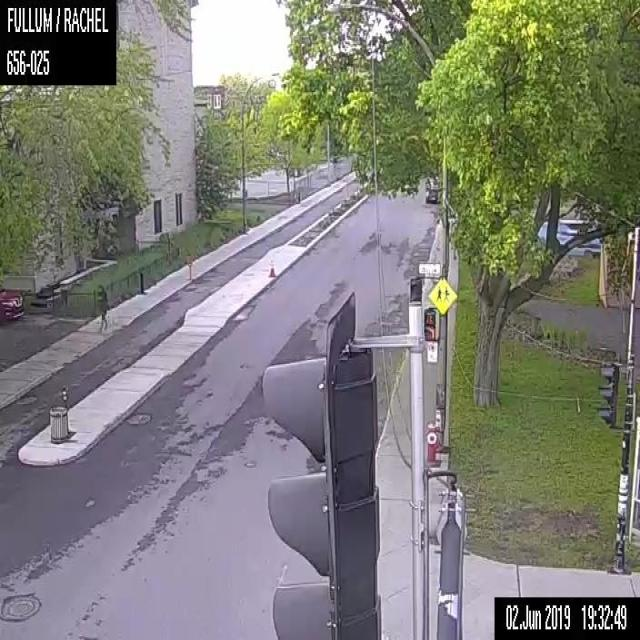construction: (267, 256, 276, 276)
pedestrian: (96, 284, 108, 330)
vehicle: (0, 288, 24, 321), (424, 182, 440, 202)
